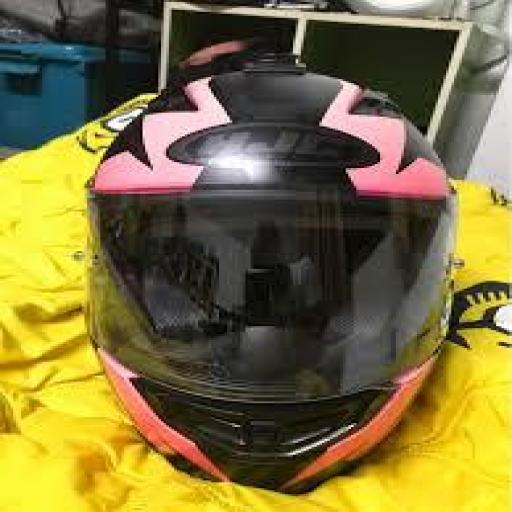with helmet: (98, 29, 456, 501)
